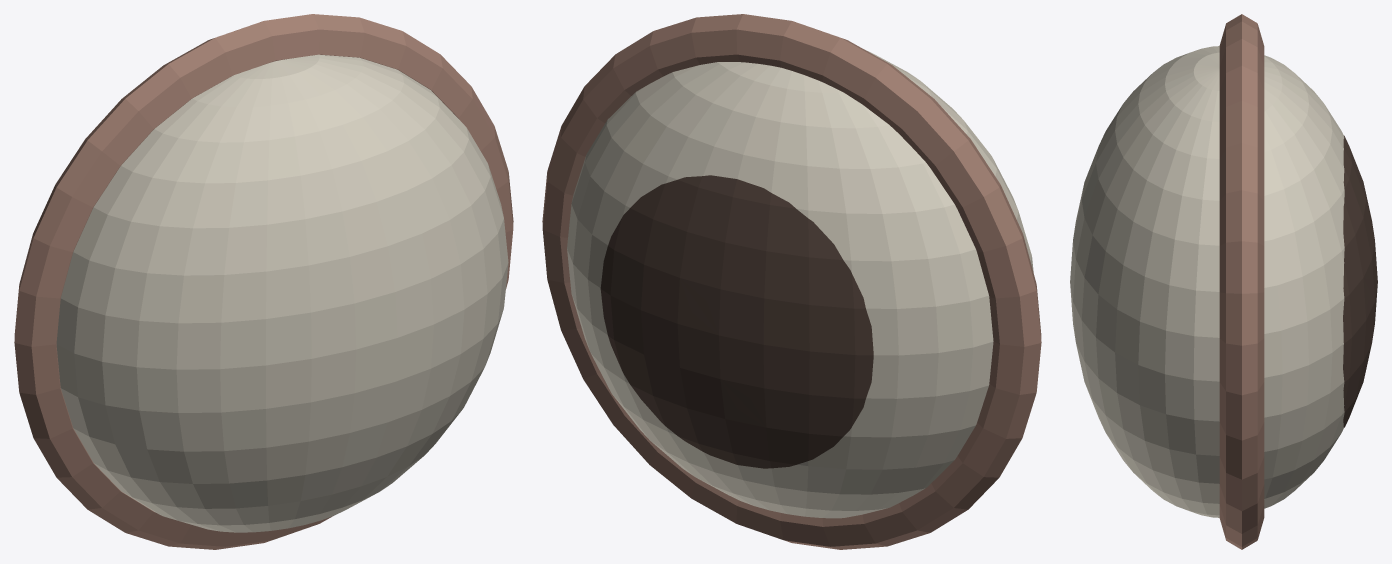
File: gazer_eye_main_original_01.glb
3 views of the same model, side by side, from view 1: azimuth 30°, elevation 25°; view 2: azimuth 150°, elevation 25°; view 3: azimuth 270°, elevation 25° (orthographic). The views are drawn at different scales.
Visible parts, largest first — view 1: G0_ScleraMain, G0_LidMain; view 2: G0_ScleraMain, G0_IrisMain, G0_LidMain; view 3: G0_ScleraMain, G0_LidMain, G0_IrisMain.
Part boxes in pixels (box(x1,y1,x2,y2)): G0_ScleraMain: box(56, 54, 508, 532); G0_LidMain: box(14, 14, 513, 549); G0_ScleraMain: box(567, 50, 1033, 518); G0_IrisMain: box(600, 175, 873, 468); G0_LidMain: box(542, 14, 1041, 549); G0_ScleraMain: box(1070, 46, 1344, 517); G0_LidMain: box(1219, 14, 1264, 549); G0_IrisMain: box(1343, 135, 1377, 427).
Size of the model in its own units: 0.59 by 0.59 by 0.3386.
